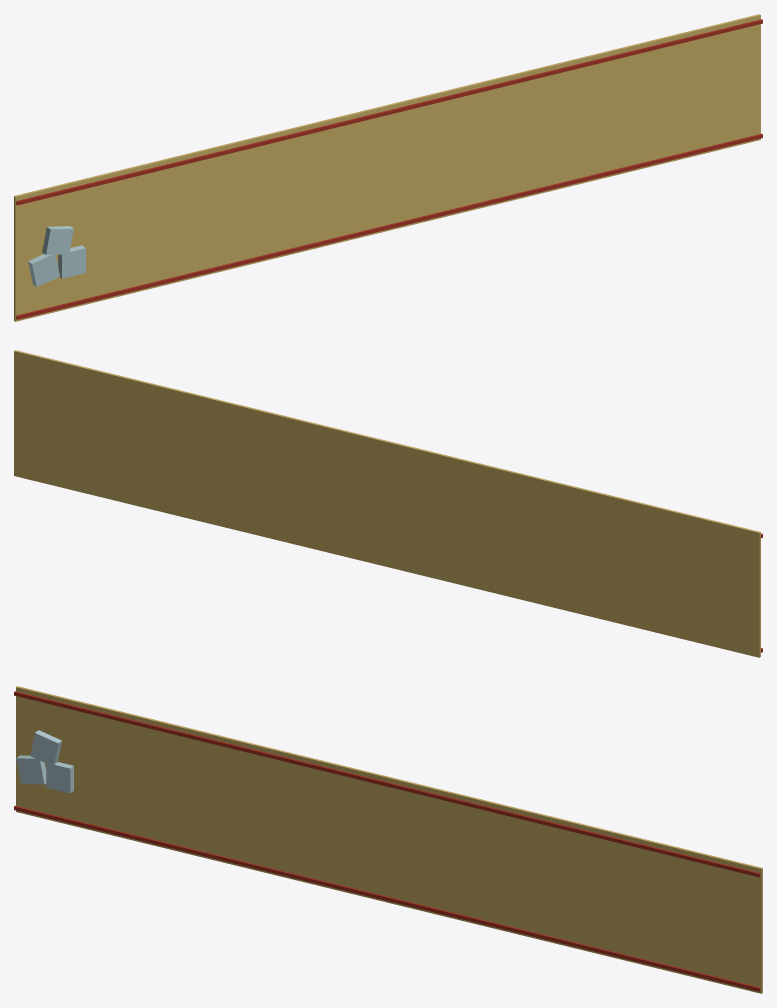
File: bang_tap_hoa_bay_hien_48.glb
The picture shows the model from 3 angles, top to bottom: view 1: azimuth 30°, elevation 25°; view 2: azimuth 150°, elevation 25°; view 3: azimuth 330°, elevation 25°; orthographic projection.
Parts seen in each view (by area): view 1: bang_tap_hoa_bay_hien_48; view 2: bang_tap_hoa_bay_hien_48; view 3: bang_tap_hoa_bay_hien_48.
Part boxes in pixels (x1=…): bang_tap_hoa_bay_hien_48: x1=14, y1=14, x2=762, y2=321; bang_tap_hoa_bay_hien_48: x1=14, y1=350, x2=762, y2=657; bang_tap_hoa_bay_hien_48: x1=14, y1=686, x2=762, y2=993.
Size of the model in its own units: 4.5 by 0.72 by 0.1.
